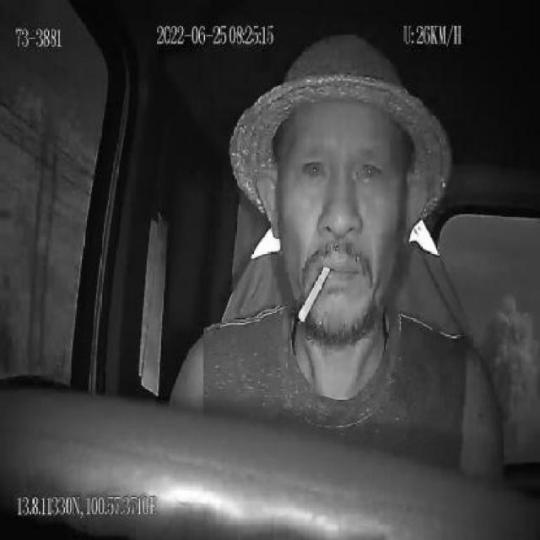smoking: (296, 262, 334, 329)
